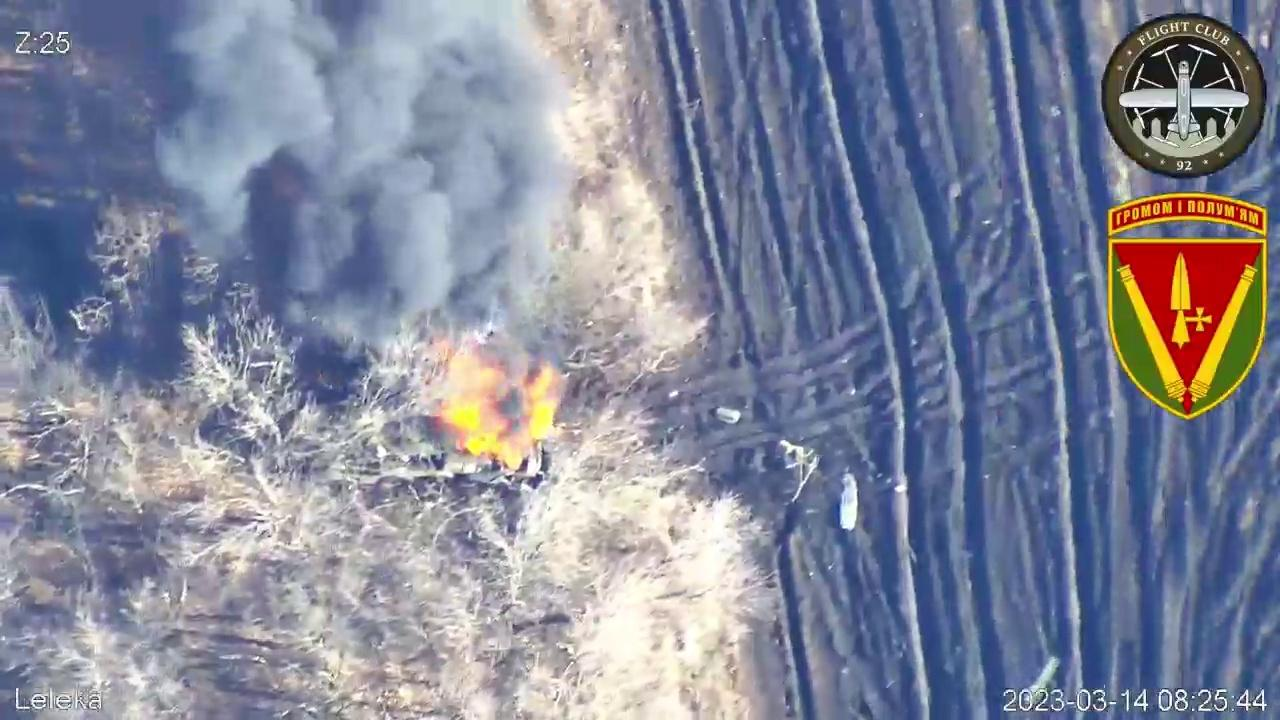vehicle: (838, 473, 858, 532)
